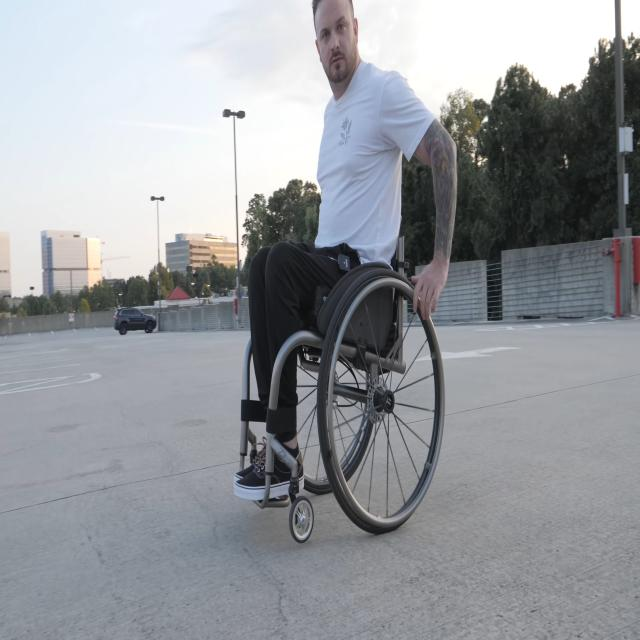wheelchairs: (236, 177, 446, 544)
